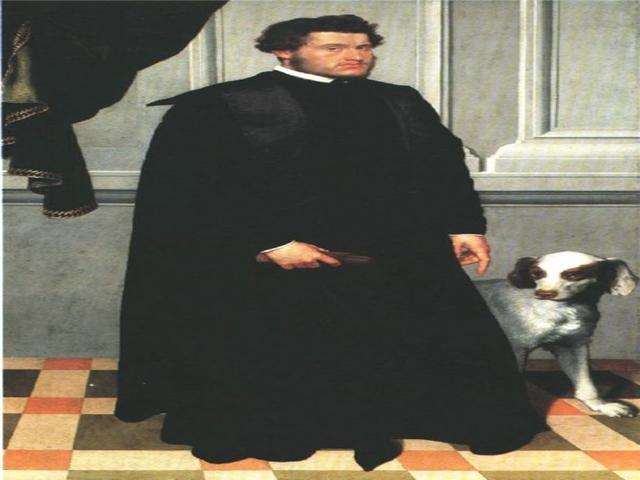dog: (482, 225, 636, 424)
